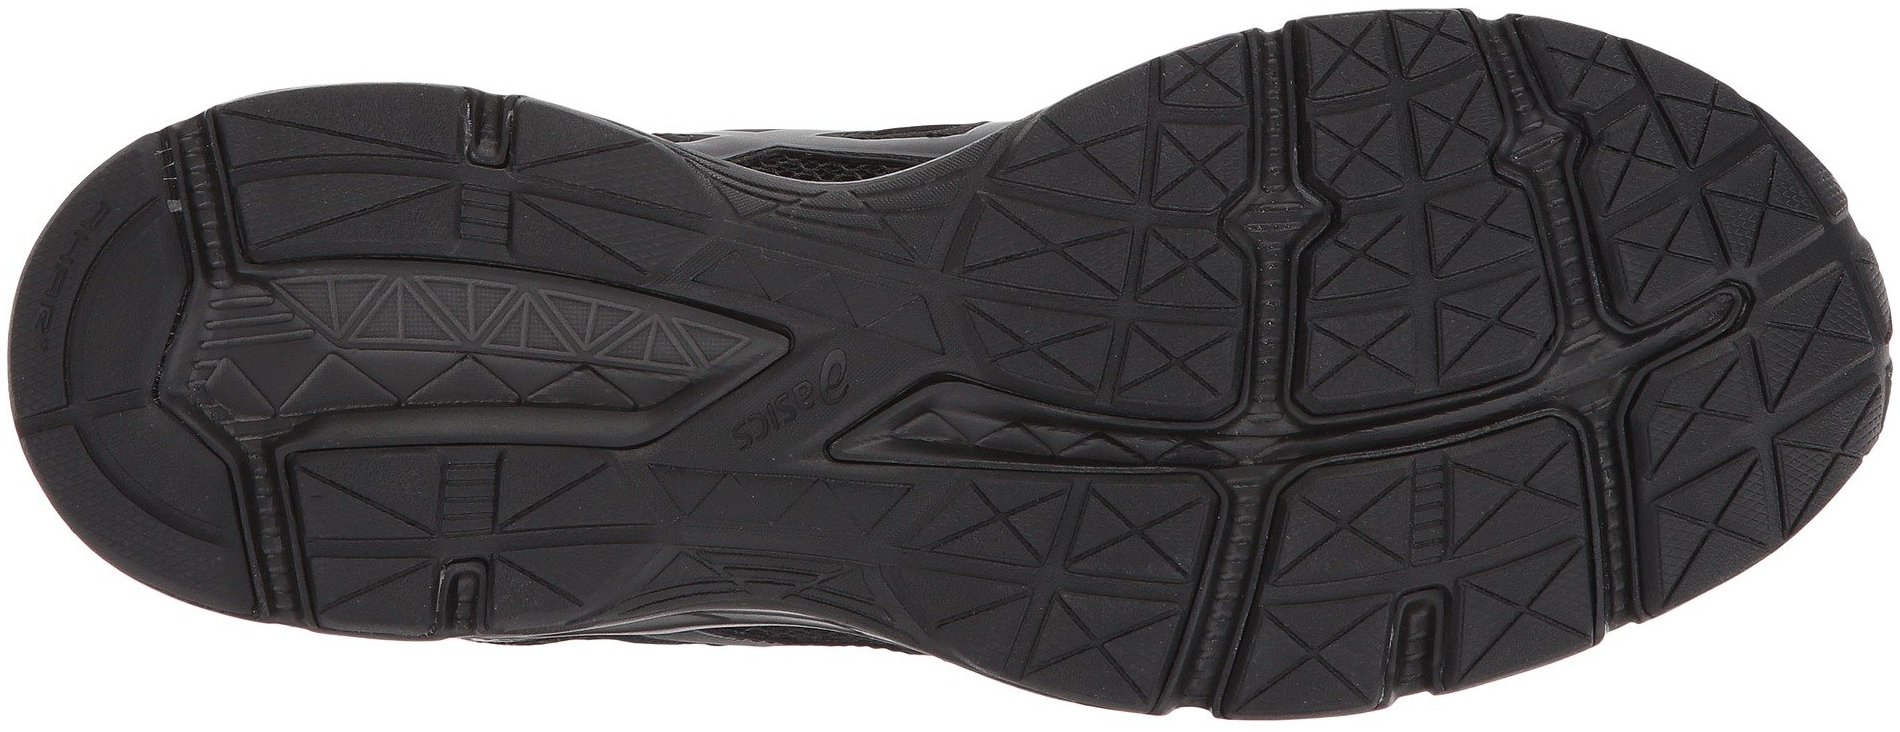quad: (927, 144, 1386, 697)
triangle: (927, 144, 1386, 697)
